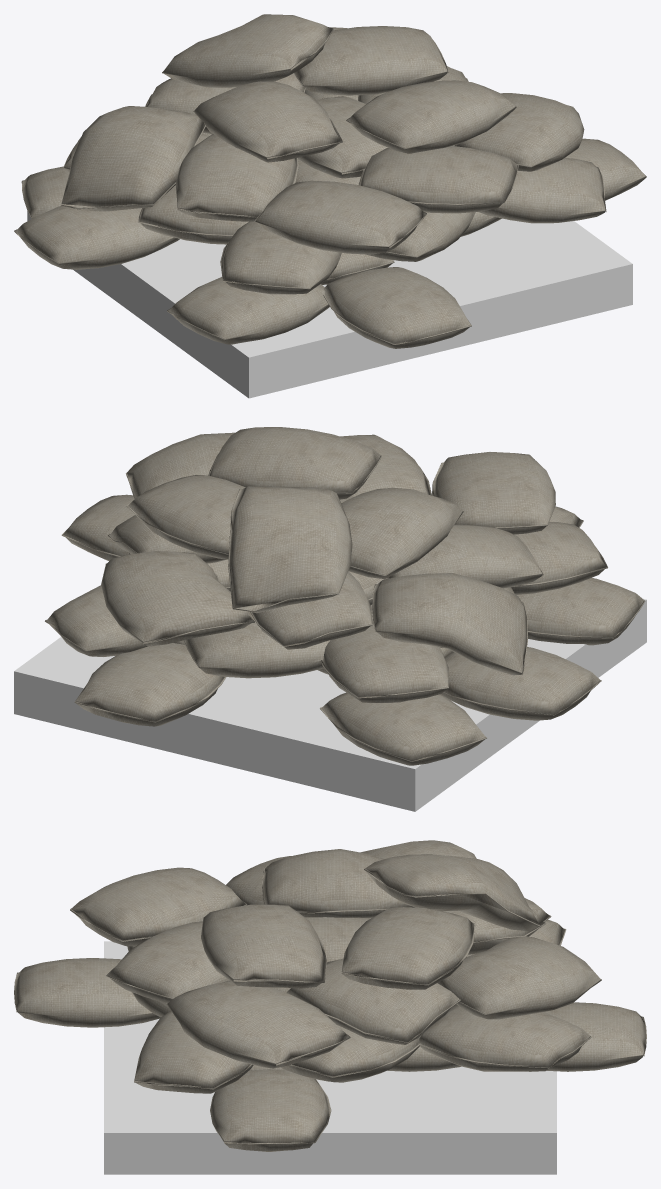
The model's file is SandBag_Wall.fbx.
The picture shows the model from 3 angles, top to bottom: view 1: azimuth 30°, elevation 25°; view 2: azimuth 150°, elevation 25°; view 3: azimuth 270°, elevation 25°; orthographic projection. The views are drawn at different scales.
Visible parts, largest first — view 1: Sandbag_Wall, Suggested_Tile_Size; view 2: Sandbag_Wall, Suggested_Tile_Size; view 3: Sandbag_Wall, Suggested_Tile_Size.
Part boxes in pixels (x1,y1,x2,y2): Sandbag_Wall: [14, 14, 646, 348]; Suggested_Tile_Size: [27, 211, 632, 398]; Sandbag_Wall: [45, 427, 645, 765]; Suggested_Tile_Size: [14, 598, 646, 811]; Sandbag_Wall: [14, 840, 646, 1151]; Suggested_Tile_Size: [104, 941, 556, 1174].
Size of the model in its own units: 203 by 75.73 by 204.
